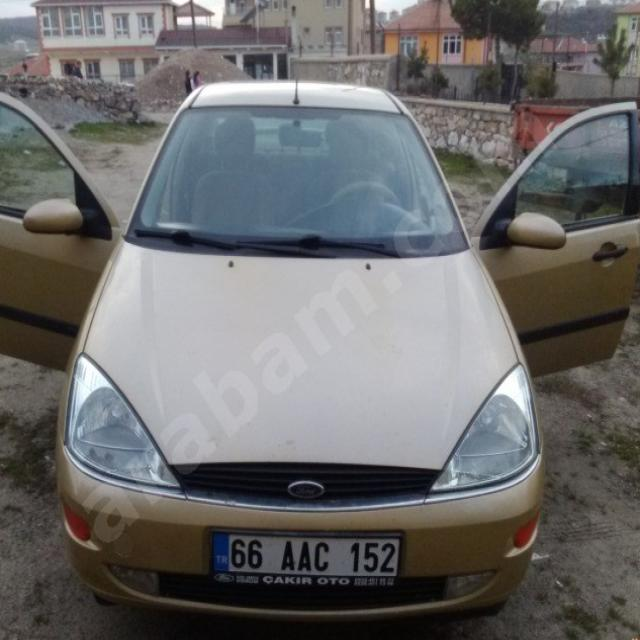license_plate: (210, 530, 400, 577)
